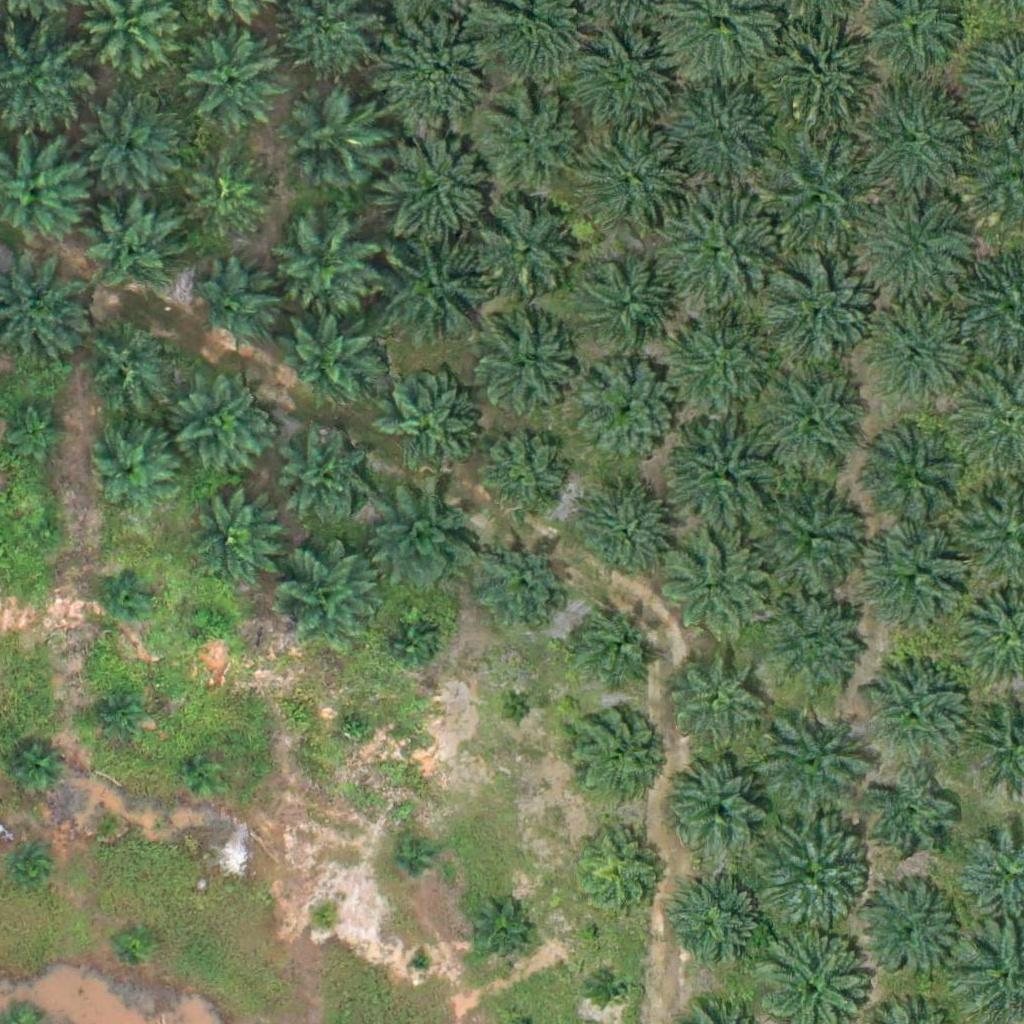Kelapa_Sawit: (375, 7, 500, 133), (659, 411, 784, 537), (656, 304, 781, 430), (656, 182, 781, 308), (766, 3, 891, 129), (756, 126, 881, 252), (757, 255, 882, 381), (750, 475, 875, 601), (852, 193, 977, 319), (853, 83, 978, 209), (370, 124, 495, 249), (748, 812, 873, 937), (659, 86, 772, 200), (379, 235, 492, 348), (370, 484, 483, 597), (755, 368, 868, 481), (860, 658, 973, 771), (757, 589, 870, 702), (754, 707, 867, 820), (862, 418, 974, 531), (659, 534, 771, 647), (277, 308, 377, 409), (172, 377, 272, 478), (83, 101, 183, 202), (83, 195, 183, 296), (76, 314, 176, 415), (378, 375, 478, 476), (475, 323, 575, 424), (473, 202, 573, 303), (478, 90, 578, 191), (586, 132, 686, 233), (579, 361, 679, 462), (575, 486, 675, 587), (863, 770, 963, 871), (858, 879, 958, 980), (661, 640, 761, 741), (672, 757, 772, 858), (669, 876, 769, 977), (564, 595, 664, 696), (566, 701, 666, 802), (571, 822, 671, 923), (277, 549, 377, 650), (285, 92, 385, 192), (273, 218, 373, 318), (184, 34, 284, 134), (567, 25, 667, 125), (874, 313, 974, 413), (868, 530, 968, 630), (180, 489, 280, 589), (192, 262, 280, 350), (185, 154, 273, 242), (279, 432, 367, 520), (582, 266, 670, 354), (90, 429, 177, 518), (479, 540, 566, 629), (478, 433, 565, 521), (466, 903, 529, 966), (6, 397, 68, 460), (7, 746, 57, 797), (385, 617, 435, 668), (91, 691, 141, 741), (104, 568, 154, 618), (194, 603, 232, 641), (185, 754, 223, 792), (337, 710, 375, 748), (499, 691, 537, 729), (305, 900, 343, 938), (596, 969, 634, 1007), (28, 515, 65, 553), (389, 839, 426, 877), (86, 800, 123, 838), (12, 850, 49, 887), (117, 923, 154, 960), (408, 949, 433, 974)
